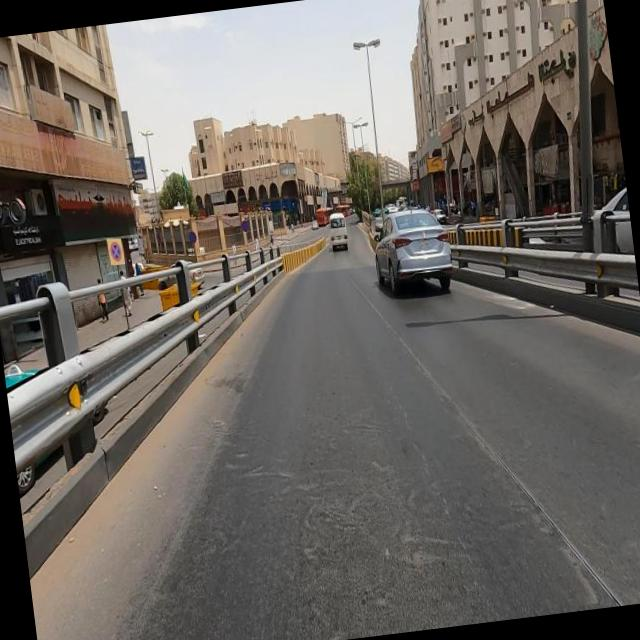debris: (263, 140, 315, 197)
